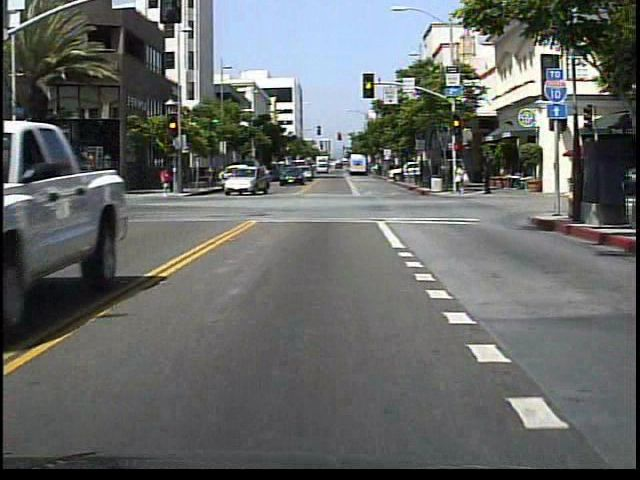person: (454, 160, 469, 198), (479, 160, 494, 196), (161, 165, 174, 196)
